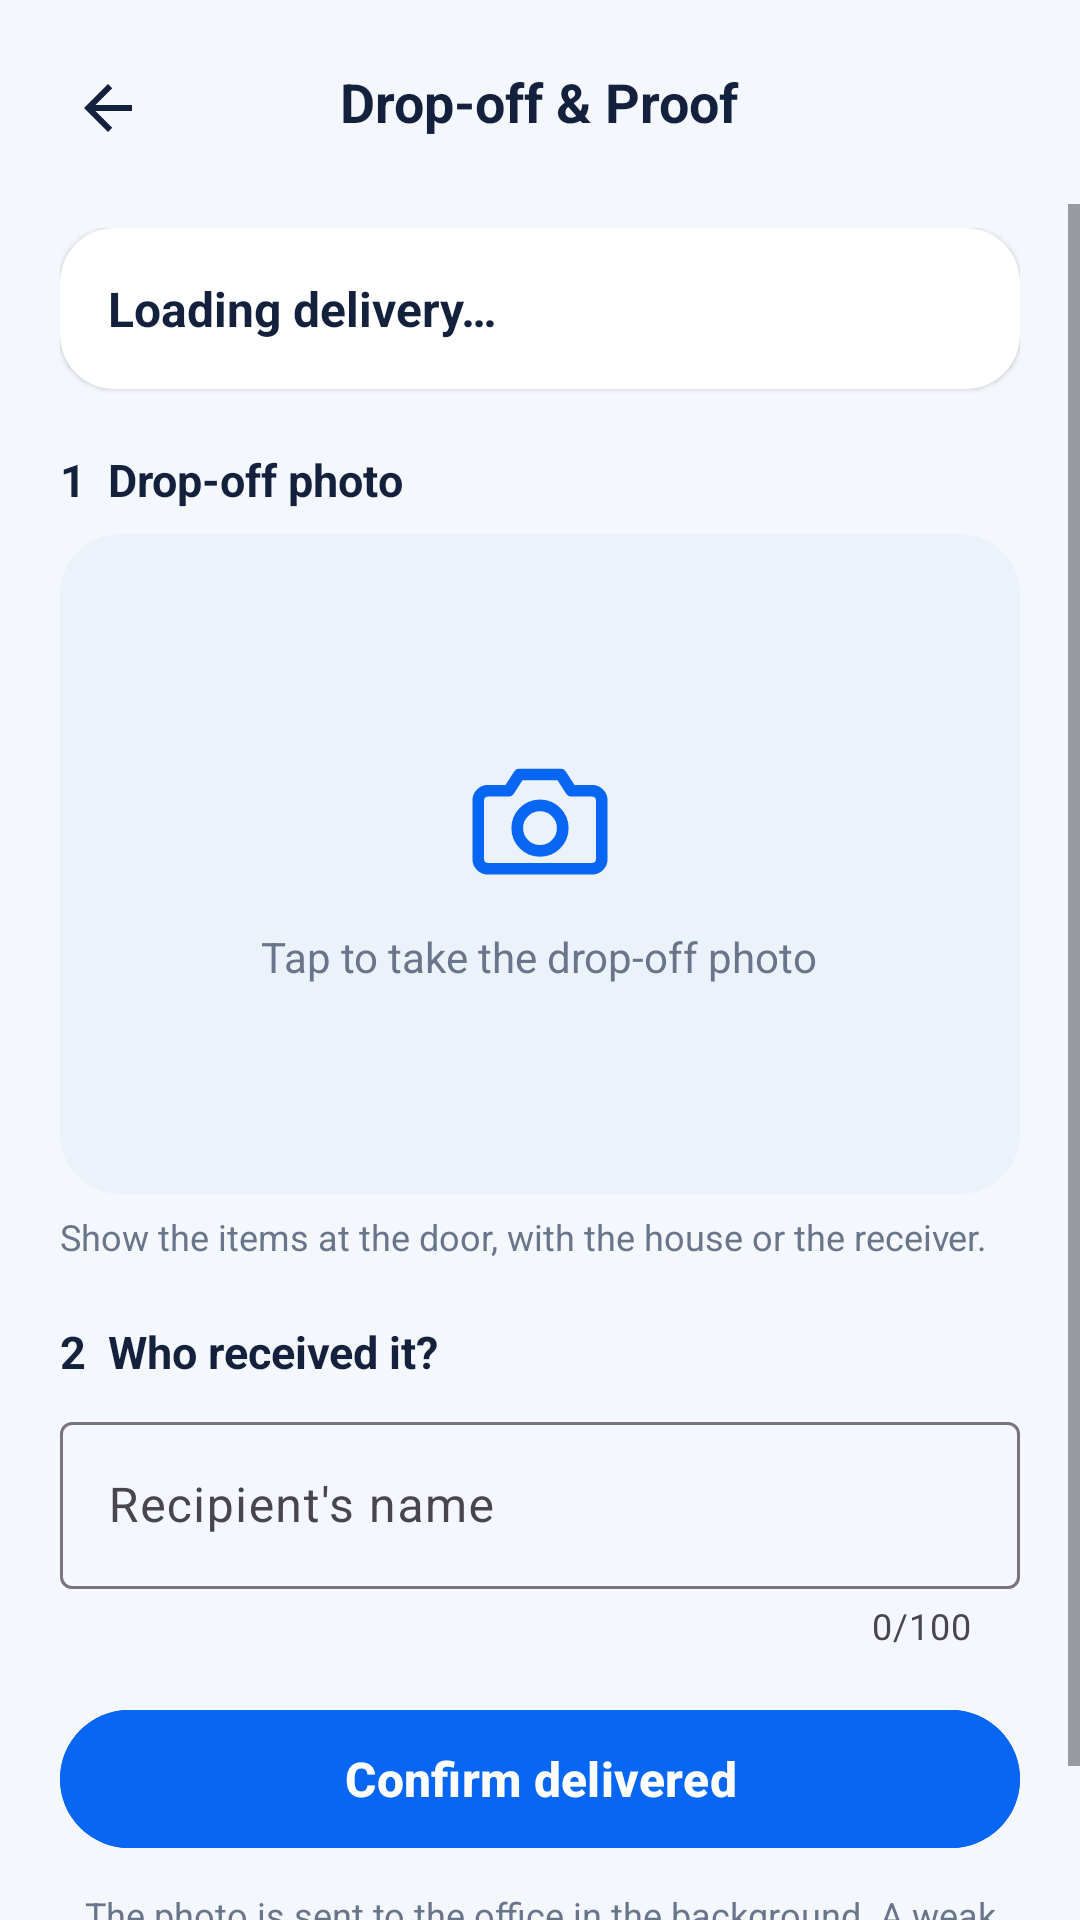

Icons on this 1080*1920 Android screen, each with its box as (x1, y1, x2, y2):
Back: (84, 84, 132, 132)
camera: (472, 768, 608, 875)
